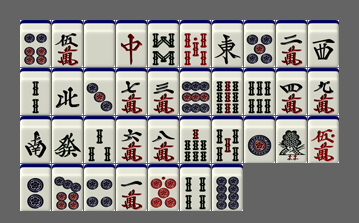0m: (308, 116, 339, 163)
0p: (148, 164, 179, 211)
0s: (180, 20, 211, 67)
1m: (116, 164, 147, 211)
1p: (244, 116, 275, 163)
1s: (276, 116, 307, 163)
1z: (212, 20, 243, 67)
2m: (276, 20, 307, 67)
2p: (20, 164, 51, 211)
2s: (20, 68, 51, 115)
2z: (20, 116, 51, 163)
3m: (148, 68, 179, 115)
3p: (84, 68, 115, 115)
3s: (84, 116, 115, 163)
3z: (308, 20, 339, 67)
4m: (276, 68, 307, 115)
4p: (84, 164, 115, 211)
4s: (180, 164, 211, 211)
4z: (52, 68, 83, 115)
5m: (52, 20, 83, 67)
5p: (244, 20, 275, 67)
5s: (212, 116, 243, 163)
5z: (84, 20, 115, 67)
6m: (116, 116, 147, 163)
6p: (20, 20, 51, 67)
6s: (244, 68, 275, 115)
6z: (52, 116, 83, 163)
7m: (116, 68, 147, 115)
7p: (52, 164, 83, 211)
7s: (180, 116, 211, 163)
7z: (116, 20, 147, 67)
8m: (148, 116, 179, 163)
8p: (212, 164, 243, 211)
8s: (148, 20, 179, 67)
9m: (308, 68, 339, 115)
9p: (180, 68, 211, 115)
9s: (212, 68, 243, 115)
